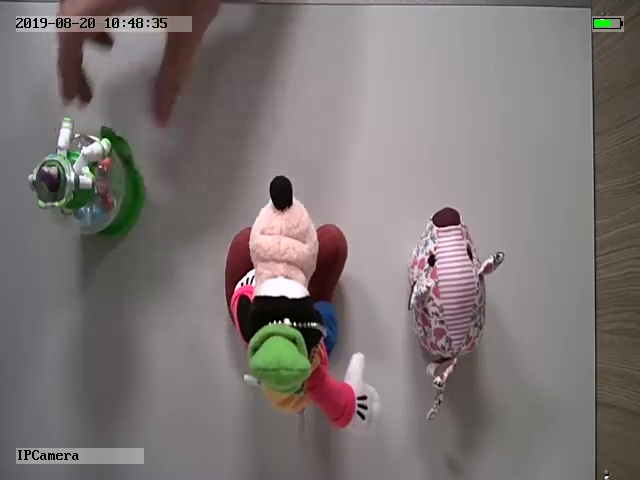buzz: (25, 116, 144, 239)
goofy: (222, 174, 385, 441)
pig: (404, 204, 506, 419)
